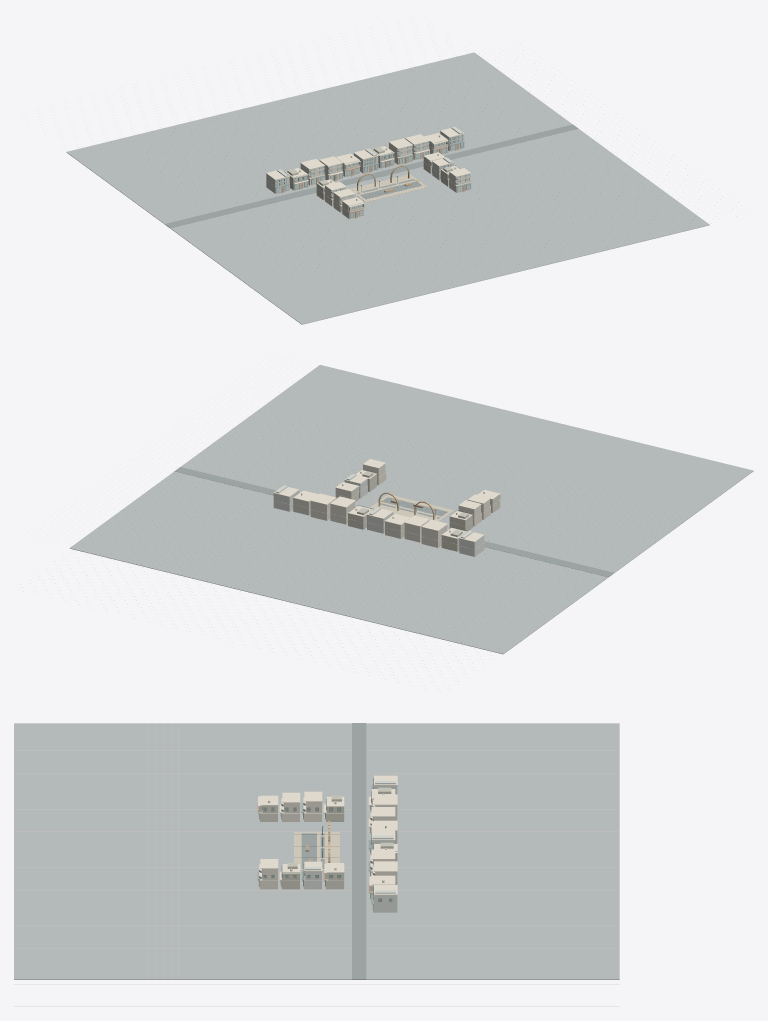
File: room.glb
The picture shows the model from 3 angles, top to bottom: view 1: azimuth 30°, elevation 25°; view 2: azimuth 150°, elevation 25°; view 3: azimuth 270°, elevation 25°; orthographic projection. The views are drawn at different scales.
Parts seen in each view (by area): view 1: Campaign_surrounding concrete, Campaign_cream, Campaign_asphalt, Campaign_glass, Campaign_white city plaster 2, Campaign_white city plaster 4, Campaign_paving, Campaign_white city plaster 3, Campaign_white city plaster 1, Campaign_metal, Campaign_white city plaster 0; view 2: Campaign_surrounding concrete, Campaign_cream, Campaign_asphalt, Campaign_white city plaster 2, Campaign_white city plaster 4, Campaign_white city plaster 3, Campaign_white city plaster 1, Campaign_white city plaster 0, Campaign_paving; view 3: Campaign_surrounding concrete, Campaign_stone, Campaign_asphalt, Campaign_cream, Campaign_white city plaster 2, Campaign_paving, Campaign_white city plaster 4, Campaign_white city plaster 3, Campaign_white city plaster 1, Campaign_white city plaster 0, Campaign_cloth.
Part boxes in pixels (<box>): Campaign_surrounding concrete: <box>66,52,709,324</box>; Campaign_cream: <box>266,127,471,217</box>; Campaign_asphalt: <box>165,124,578,227</box>; Campaign_glass: <box>276,135,469,217</box>; Campaign_white city plaster 2: <box>266,126,464,193</box>; Campaign_white city plaster 4: <box>300,143,471,206</box>; Campaign_paving: <box>349,174,427,202</box>; Campaign_white city plaster 3: <box>287,147,453,200</box>; Campaign_white city plaster 1: <box>342,141,448,219</box>; Campaign_metal: <box>276,135,470,217</box>; Campaign_white city plaster 0: <box>320,139,429,212</box>; Campaign_surrounding concrete: <box>69,365,753,654</box>; Campaign_cream: <box>273,459,500,542</box>; Campaign_asphalt: <box>174,467,613,576</box>; Campaign_white city plaster 2: <box>273,474,484,556</box>; Campaign_white city plaster 4: <box>330,464,481,547</box>; Campaign_white city plaster 3: <box>348,471,472,551</box>; Campaign_white city plaster 1: <box>293,487,500,538</box>; Campaign_white city plaster 0: <box>310,499,490,542</box>; Campaign_paving: <box>369,494,453,521</box>; Campaign_surrounding concrete: <box>14,723,619,979</box>; Campaign_stone: <box>14,723,619,1006</box>; Campaign_asphalt: <box>301,723,366,979</box>; Campaign_cream: <box>258,775,397,909</box>; Campaign_white city plaster 2: <box>304,781,397,912</box>; Campaign_paving: <box>294,831,339,870</box>; Campaign_white city plaster 4: <box>259,795,397,889</box>; Campaign_white city plaster 3: <box>282,787,397,889</box>; Campaign_white city plaster 1: <box>258,805,397,901</box>; Campaign_white city plaster 0: <box>281,796,397,884</box>; Campaign_cloth: <box>257,778,392,903</box>.
Bounding box in the file's own units: 140 × 5.01 × 154.
